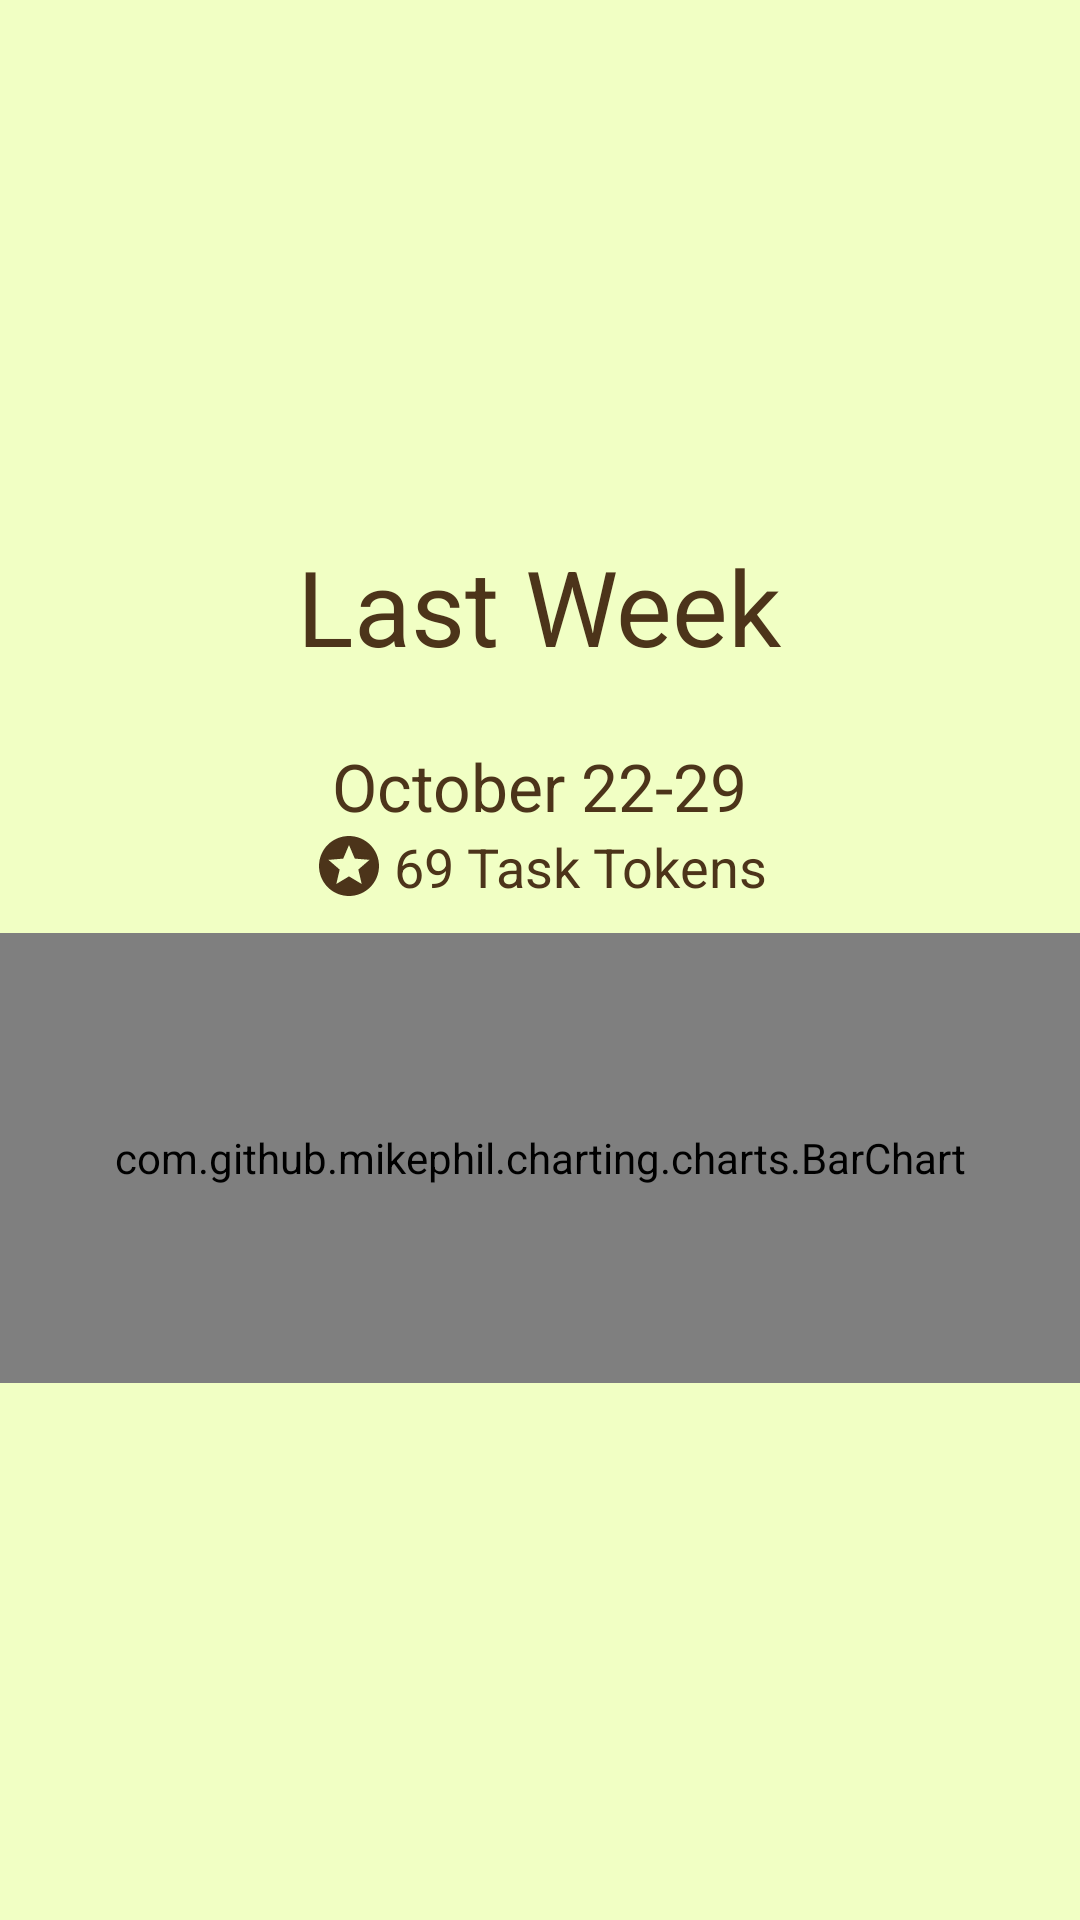

Named icons in this screenshot (1080 x 1920) and their bounding boxes, (x1, y1, x2, y2):
stars: (319, 836, 379, 896)
